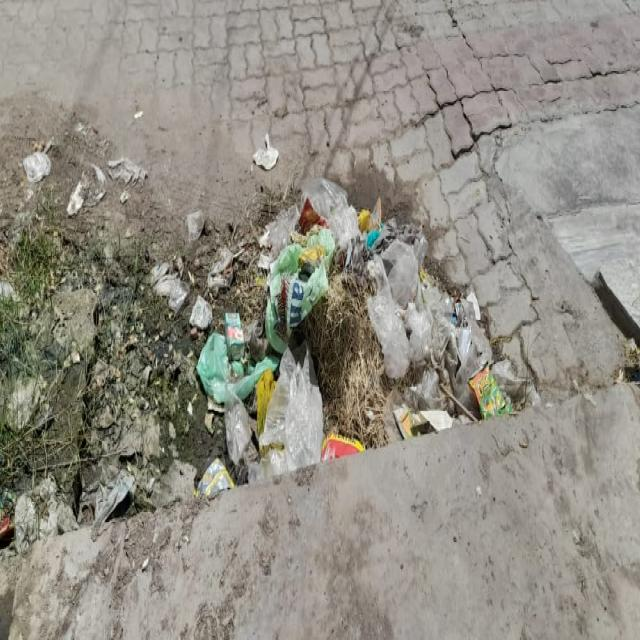plastic: (196, 333, 323, 478), (367, 240, 441, 378)
